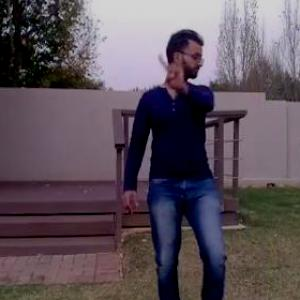takeoff-hand: (158, 45, 188, 90)
